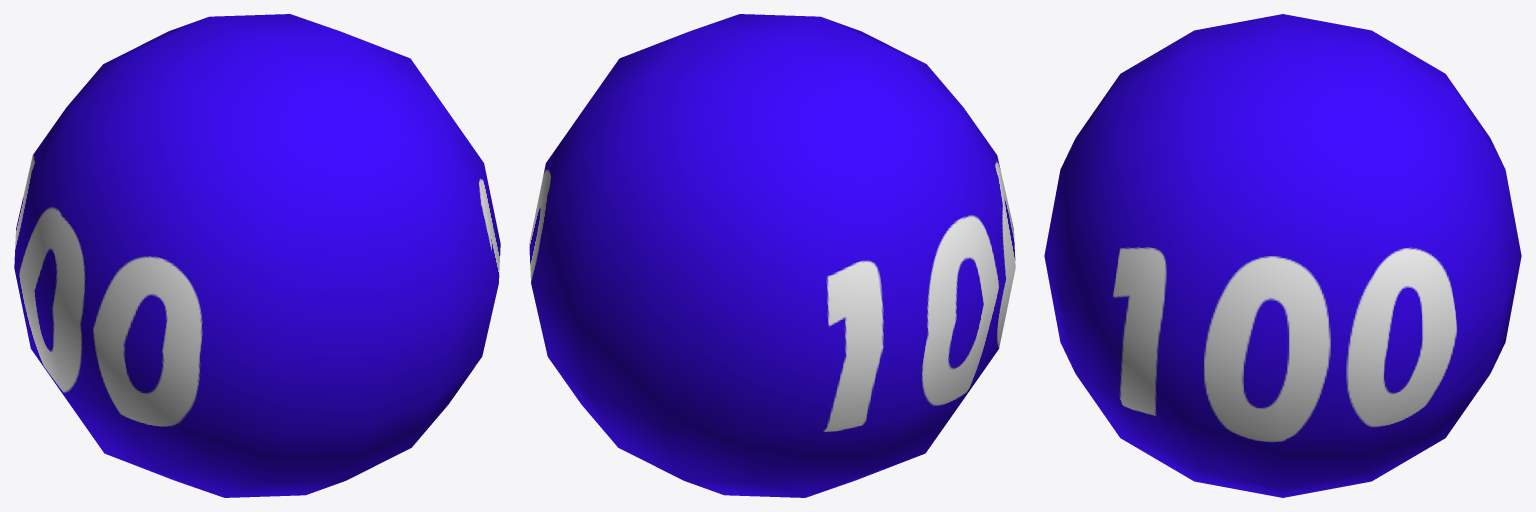
File: Weight_100.fbx
3 renders of one model, left to right at view 1: azimuth 30°, elevation 25°; view 2: azimuth 150°, elevation 25°; view 3: azimuth 270°, elevation 25°, orthographic.
Visible parts, largest first — view 1: Weight_100; view 2: Weight_100; view 3: Weight_100.
Part boxes in pixels (box(x1,y1,x2,y2)): Weight_100: box(14, 14, 500, 497); Weight_100: box(529, 14, 1015, 497); Weight_100: box(1044, 14, 1521, 497).
Size of the model in its own units: 52.71 by 52.71 by 52.71.
